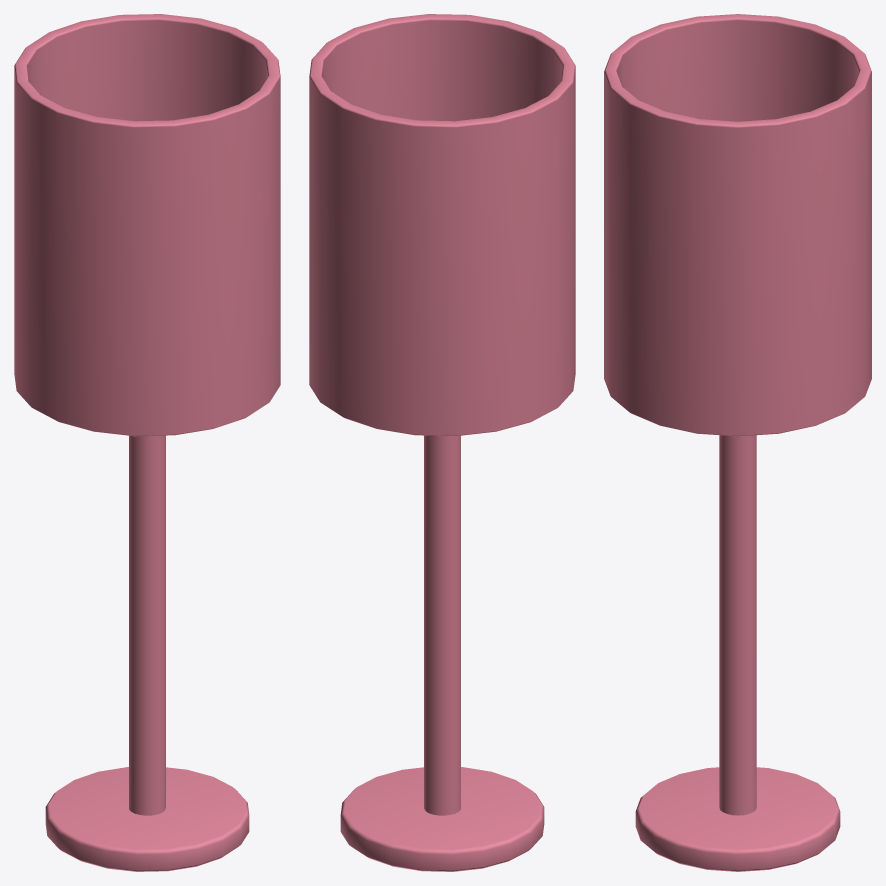
Rendered from Lamp_1.glb.
3 renders of one model, left to right at view 1: azimuth 30°, elevation 25°; view 2: azimuth 150°, elevation 25°; view 3: azimuth 270°, elevation 25°, orthographic.
Visible parts, largest first — view 1: Lamp_1; view 2: Lamp_1; view 3: Lamp_1.
Boxes of the visible parts, x1,y1,x2,y2 form: Lamp_1: (14,14,280,871); Lamp_1: (309,14,575,871); Lamp_1: (604,14,871,871).
Size of the model in its own units: 0.5952 by 1.87 by 0.5952.
Materials: 2 (1 with a texture image).
